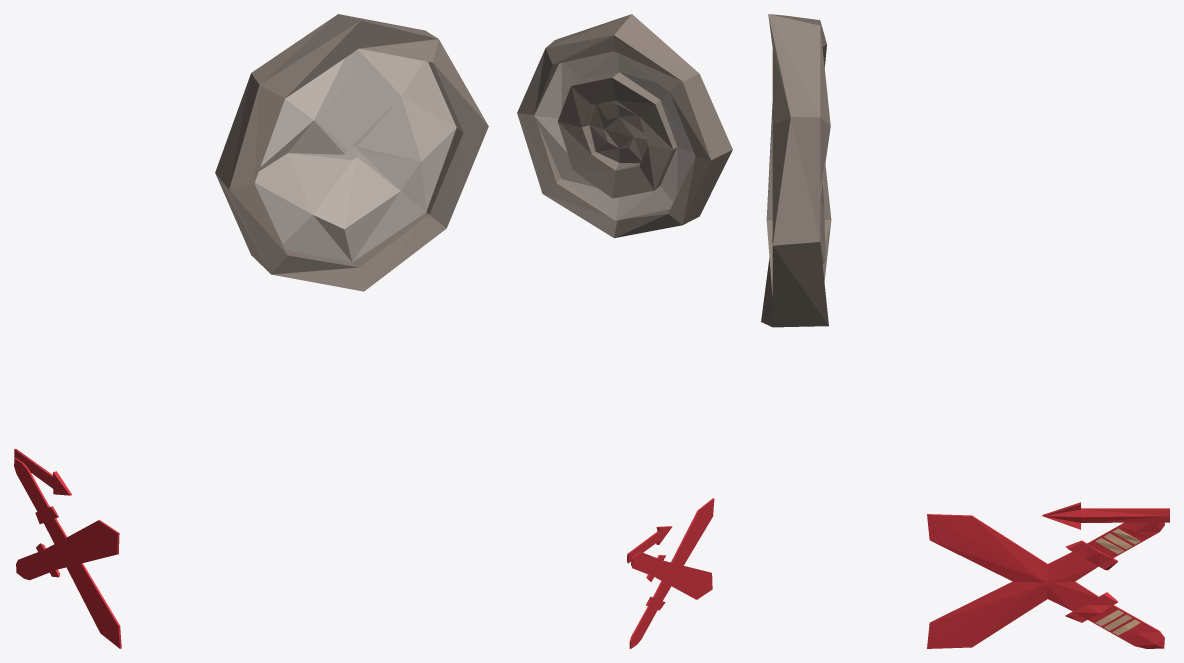
The model's file is item_fall_attack.FBX.
The picture shows the model from 3 angles, left to right: view 1: azimuth 30°, elevation 25°; view 2: azimuth 150°, elevation 25°; view 3: azimuth 270°, elevation 25°; orthographic projection. The views are drawn at different scales.
Visible parts, largest first — view 1: coin, attack; view 2: coin, attack; view 3: coin, attack.
Part boxes in pixels (bbox=[...]): coin: bbox=[215, 14, 488, 291]; attack: bbox=[14, 448, 121, 648]; coin: bbox=[517, 14, 732, 238]; attack: bbox=[627, 498, 714, 648]; coin: bbox=[761, 14, 831, 327]; attack: bbox=[927, 502, 1169, 648].
Size of the model in its own units: 36.34 by 72.89 by 37.01.
1 material, 1 textured.
